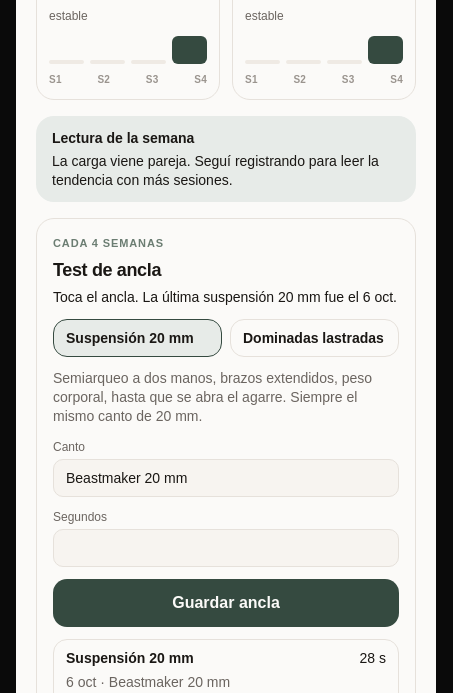
progress dashboard anchor › shows the four-week history and the due date for the protocol in use
The image size is (453, 693).
(page scrolled)
Expected: the text "Toca el ancla. La última suspensión 20 mm fue el 6 oct." is shown, x1=53 y1=288 x2=399 y2=307
Expected: the text "28 s" is shown, x1=360 y1=648 x2=386 y2=668
Click the radio button labelled "Dominadas lastradas" at (314, 338), box x1=230 y1=319 x2=399 y2=357
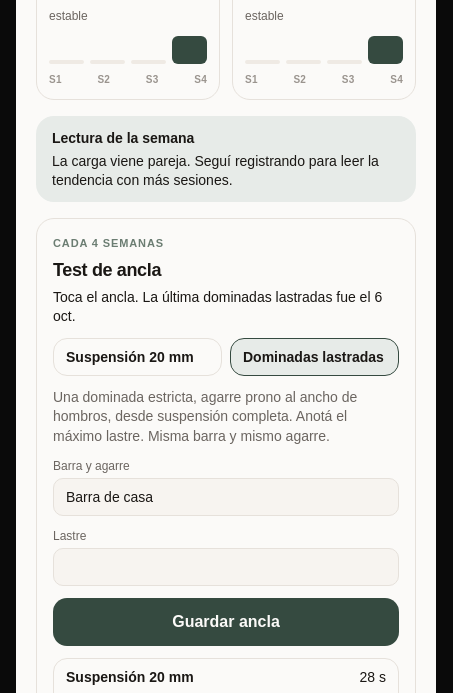
Now the text "mismo agarre" is shown, box x1=53 y1=389 x2=357 y2=444
Now the text "Toca el ancla. La última dominadas lastradas fue el 6 oct." is shown, box x1=53 y1=288 x2=399 y2=326
Now the field labelled "Barra y agarre" holds "Barra de casa", box x1=53 y1=478 x2=399 y2=516
